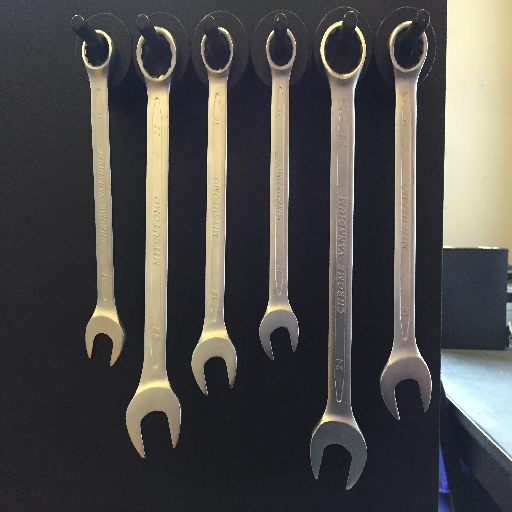bottom: (308, 415, 368, 495), (125, 383, 183, 460), (379, 356, 435, 422), (189, 331, 241, 396), (81, 311, 128, 370), (258, 303, 302, 363)
top: (316, 17, 368, 87), (384, 14, 429, 90), (134, 24, 182, 85), (197, 22, 239, 83), (262, 24, 299, 85), (78, 28, 120, 73)
